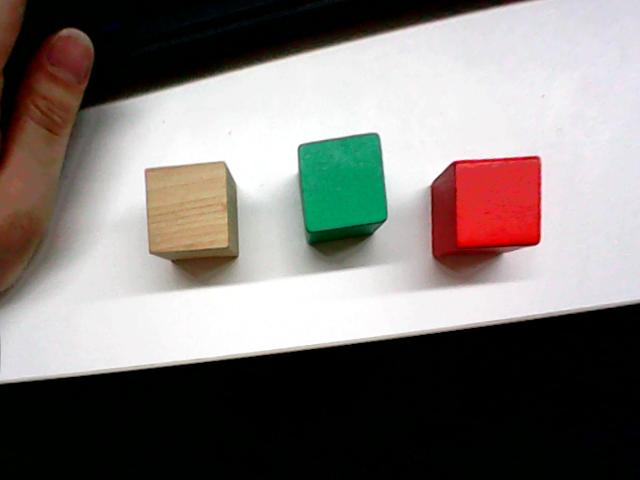green_box: (293, 128, 390, 246)
raw_box: (141, 157, 241, 262)
red_box: (427, 150, 545, 261)
